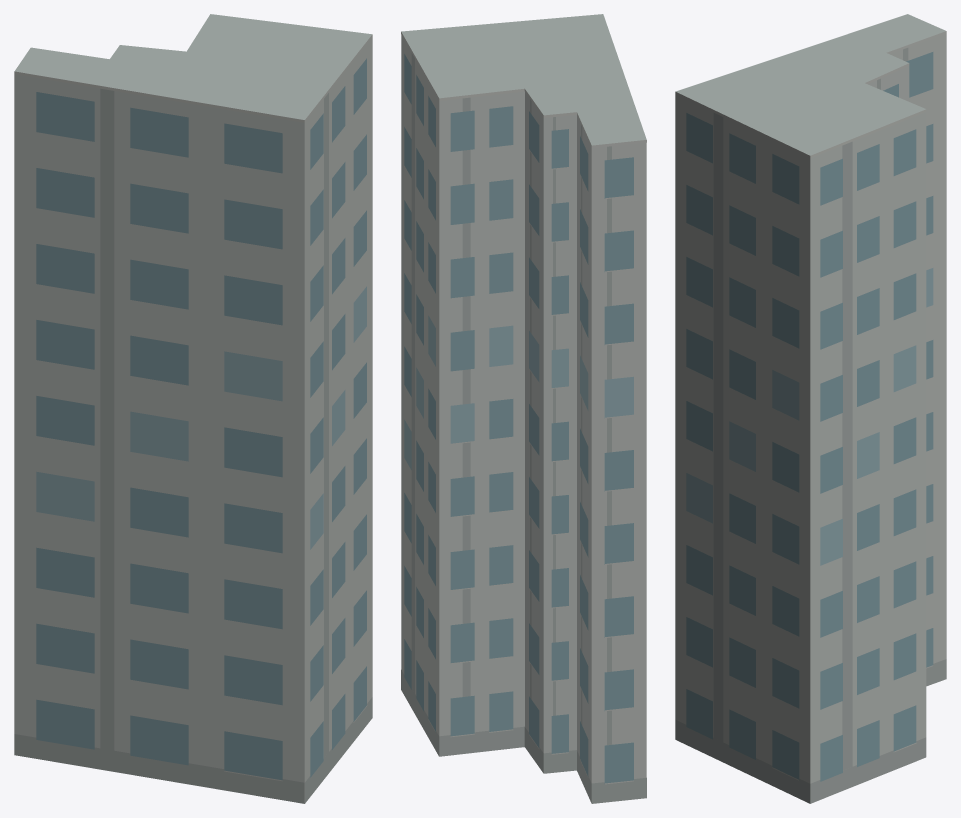
File: residential-9fbc8840-0b38-4a1c-a23a-987cd3c09fe9.glb
The picture shows the model from 3 angles, left to right: view 1: azimuth 30°, elevation 25°; view 2: azimuth 150°, elevation 25°; view 3: azimuth 270°, elevation 25°; orthographic projection. The views are drawn at different scales.
Parts seen in each view (by area): view 1: residential-9fbc8840-0b38-4a1c-a23a-987cd3c09fe9.tmp; view 2: residential-9fbc8840-0b38-4a1c-a23a-987cd3c09fe9.tmp; view 3: residential-9fbc8840-0b38-4a1c-a23a-987cd3c09fe9.tmp.
Boxes of the visible parts, x1,y1,x2,y2 form: residential-9fbc8840-0b38-4a1c-a23a-987cd3c09fe9.tmp: (14, 14, 372, 803); residential-9fbc8840-0b38-4a1c-a23a-987cd3c09fe9.tmp: (401, 14, 646, 803); residential-9fbc8840-0b38-4a1c-a23a-987cd3c09fe9.tmp: (675, 14, 946, 803).
Size of the model in its own units: 27.69 by 59 by 22.37.
